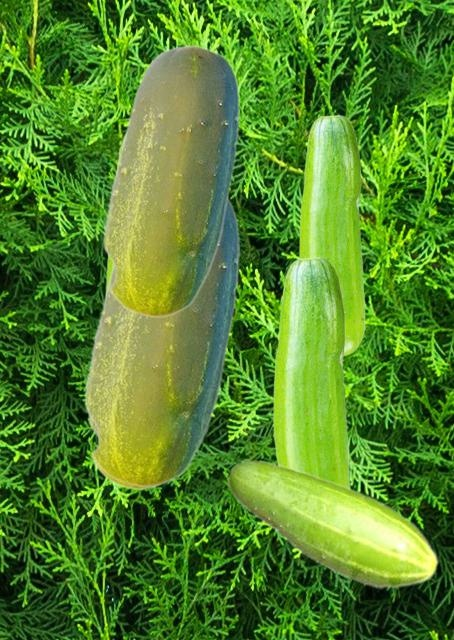cucumber: (83, 198, 238, 487), (102, 44, 238, 317), (227, 459, 438, 589), (273, 256, 349, 486), (299, 114, 364, 355)
